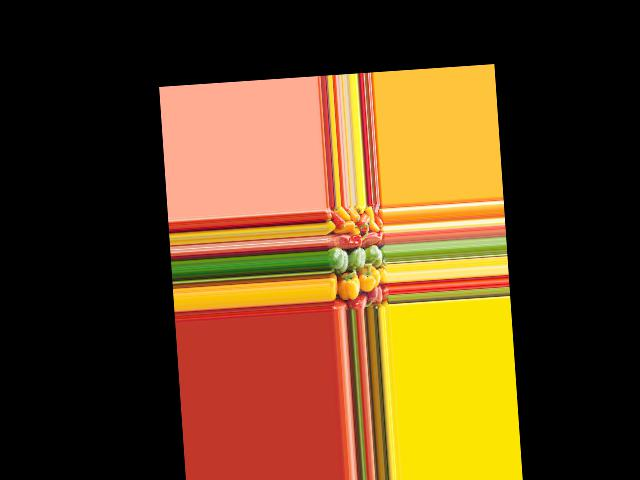bell_pepper: (329, 209, 346, 228)
